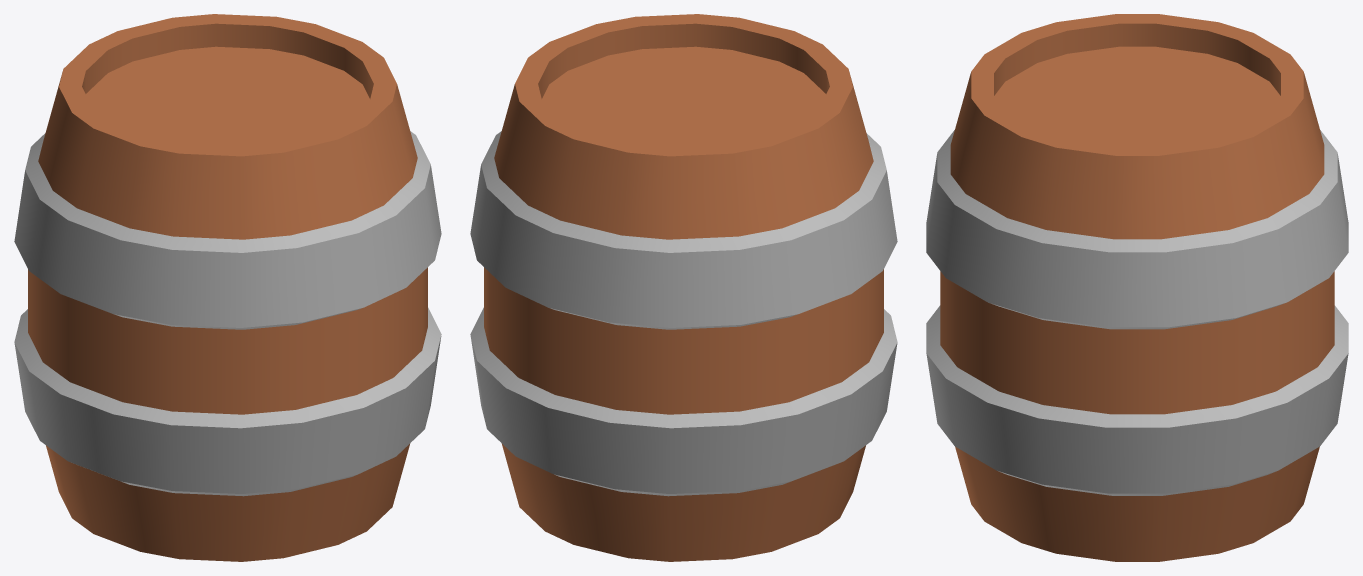
Rendered from barril.fbx.
3 views of the same model, side by side, from view 1: azimuth 30°, elevation 25°; view 2: azimuth 150°, elevation 25°; view 3: azimuth 270°, elevation 25° (orthographic).
Parts seen in each view (by area): view 1: Cylinder.001; view 2: Cylinder.001; view 3: Cylinder.001.
Part boxes in pixels (x1,y1,x2,y2): Cylinder.001: [14, 14, 441, 561]; Cylinder.001: [470, 14, 897, 561]; Cylinder.001: [926, 14, 1348, 561].
Bounding box in the file's own units: 101 × 107 × 100.
